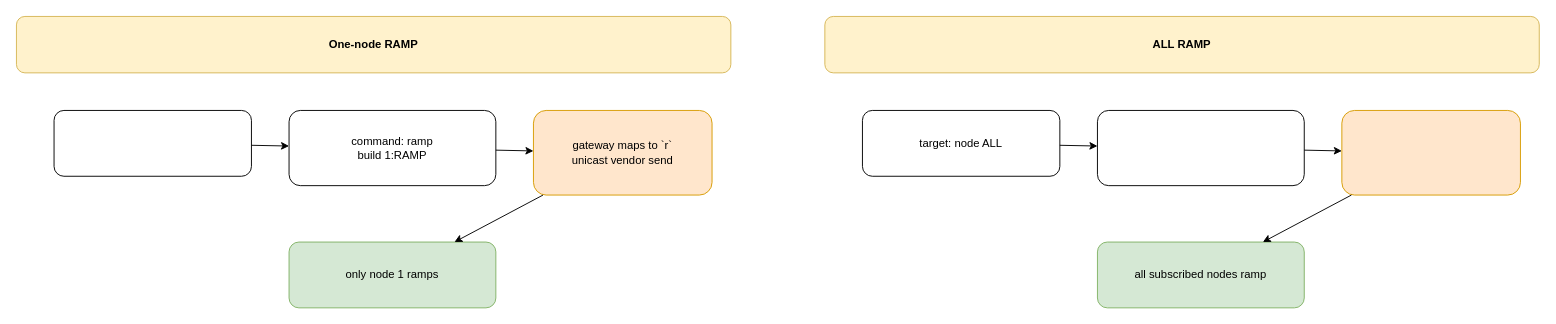
Image size: 1556x324. Some labels were removed from this diagram. Each missing label, with the centre of its shape:
"command: ramp build ALL:RAMP" goes at point (1200, 148).
"gateway maps to `r` group send 0xC000" goes at point (1430, 152).
"target: node 1" goes at point (152, 143).
